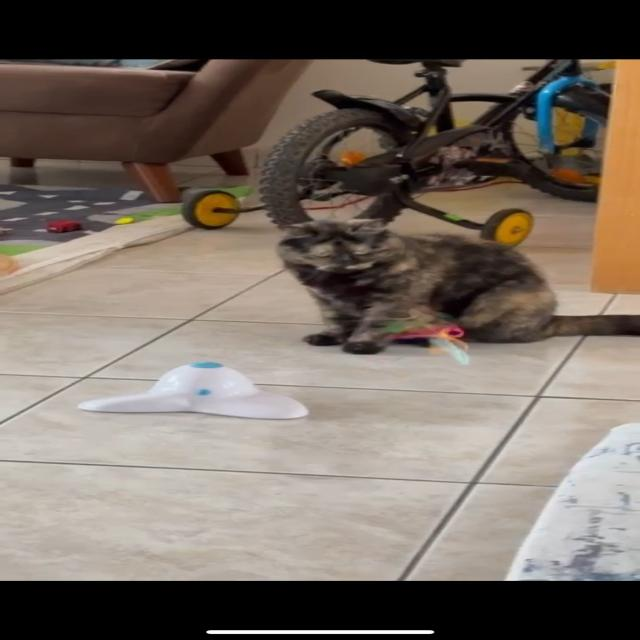authorized: (274, 217, 639, 355)
